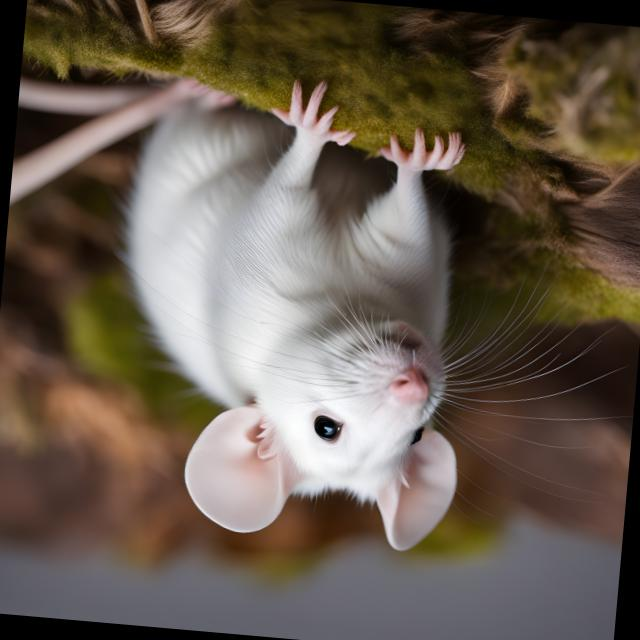rodents: (65, 65, 531, 577)
